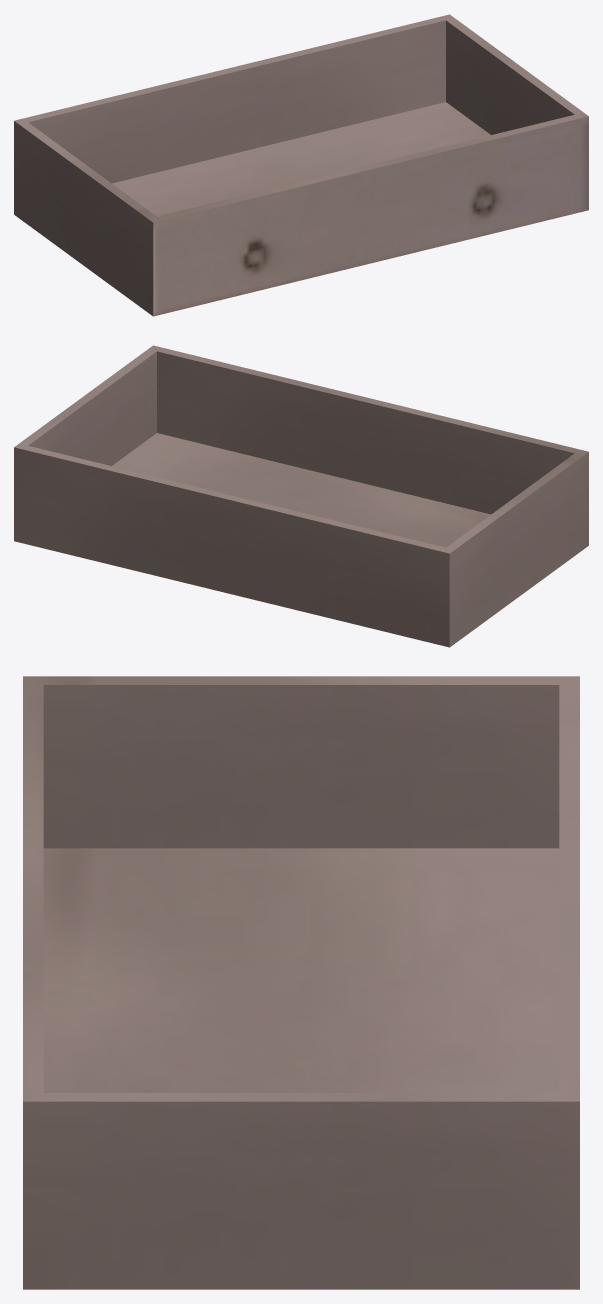
File: Chest_drawers_02_003-col.glb
3 views of the same model, one above another, from view 1: azimuth 30°, elevation 25°; view 2: azimuth 150°, elevation 25°; view 3: azimuth 270°, elevation 25° (orthographic). The views are drawn at different scales.
Parts seen in each view (by area): view 1: Chest_drawers_02.003-col; view 2: Chest_drawers_02.003-col; view 3: Chest_drawers_02.003-col.
Part boxes in pixels (x1,y1,x2,y2): Chest_drawers_02.003-col: [14, 14, 588, 316]; Chest_drawers_02.003-col: [14, 345, 588, 647]; Chest_drawers_02.003-col: [23, 676, 579, 1289].
Size of the model in its own units: 2.52 by 0.519 by 1.39.
Materials: 1 (1 with a texture image).
